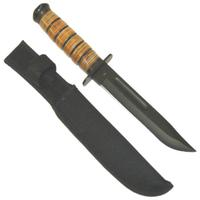knife: (35, 3, 196, 159)
